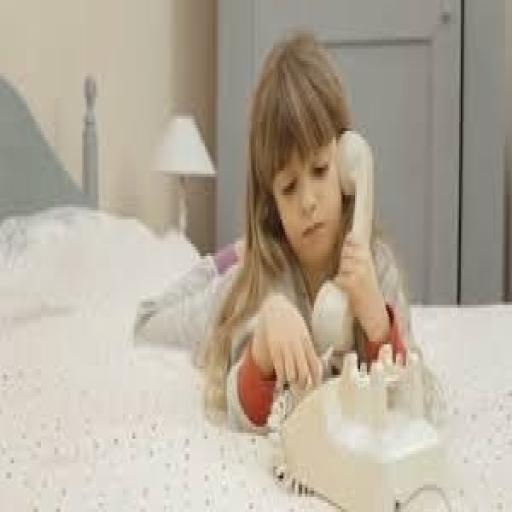calling: (194, 30, 416, 433)
